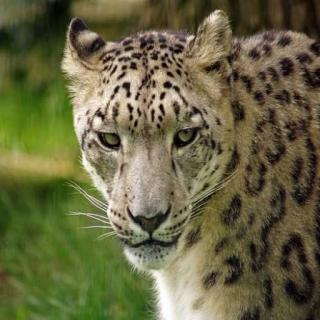Leopard: (43, 2, 320, 310)
